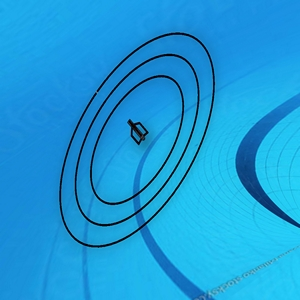circle: (51, 27, 224, 254)
submarine: (128, 116, 150, 147)
